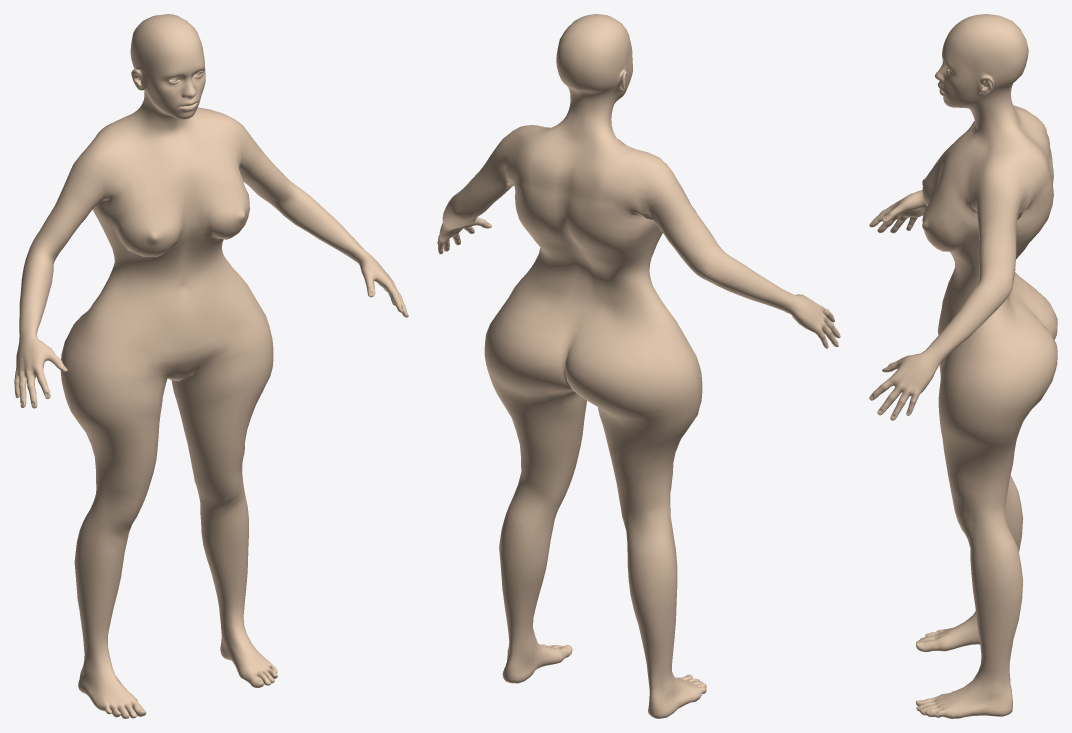
The model's file is female_Hourglass.glb.
3 renders of one model, left to right at view 1: azimuth 30°, elevation 25°; view 2: azimuth 150°, elevation 25°; view 3: azimuth 270°, elevation 25°, orthographic. The views are drawn at different scales.
Parts seen in each view (by area): view 1: female_Hourglass; view 2: female_Hourglass; view 3: female_Hourglass.
Boxes of the visible parts, x1,y1,x2,y2 form: female_Hourglass: (14, 14, 408, 718); female_Hourglass: (437, 14, 840, 718); female_Hourglass: (869, 14, 1057, 718).
Bounding box in the file's own units: 0.9189 × 1.5 × 0.3879.
